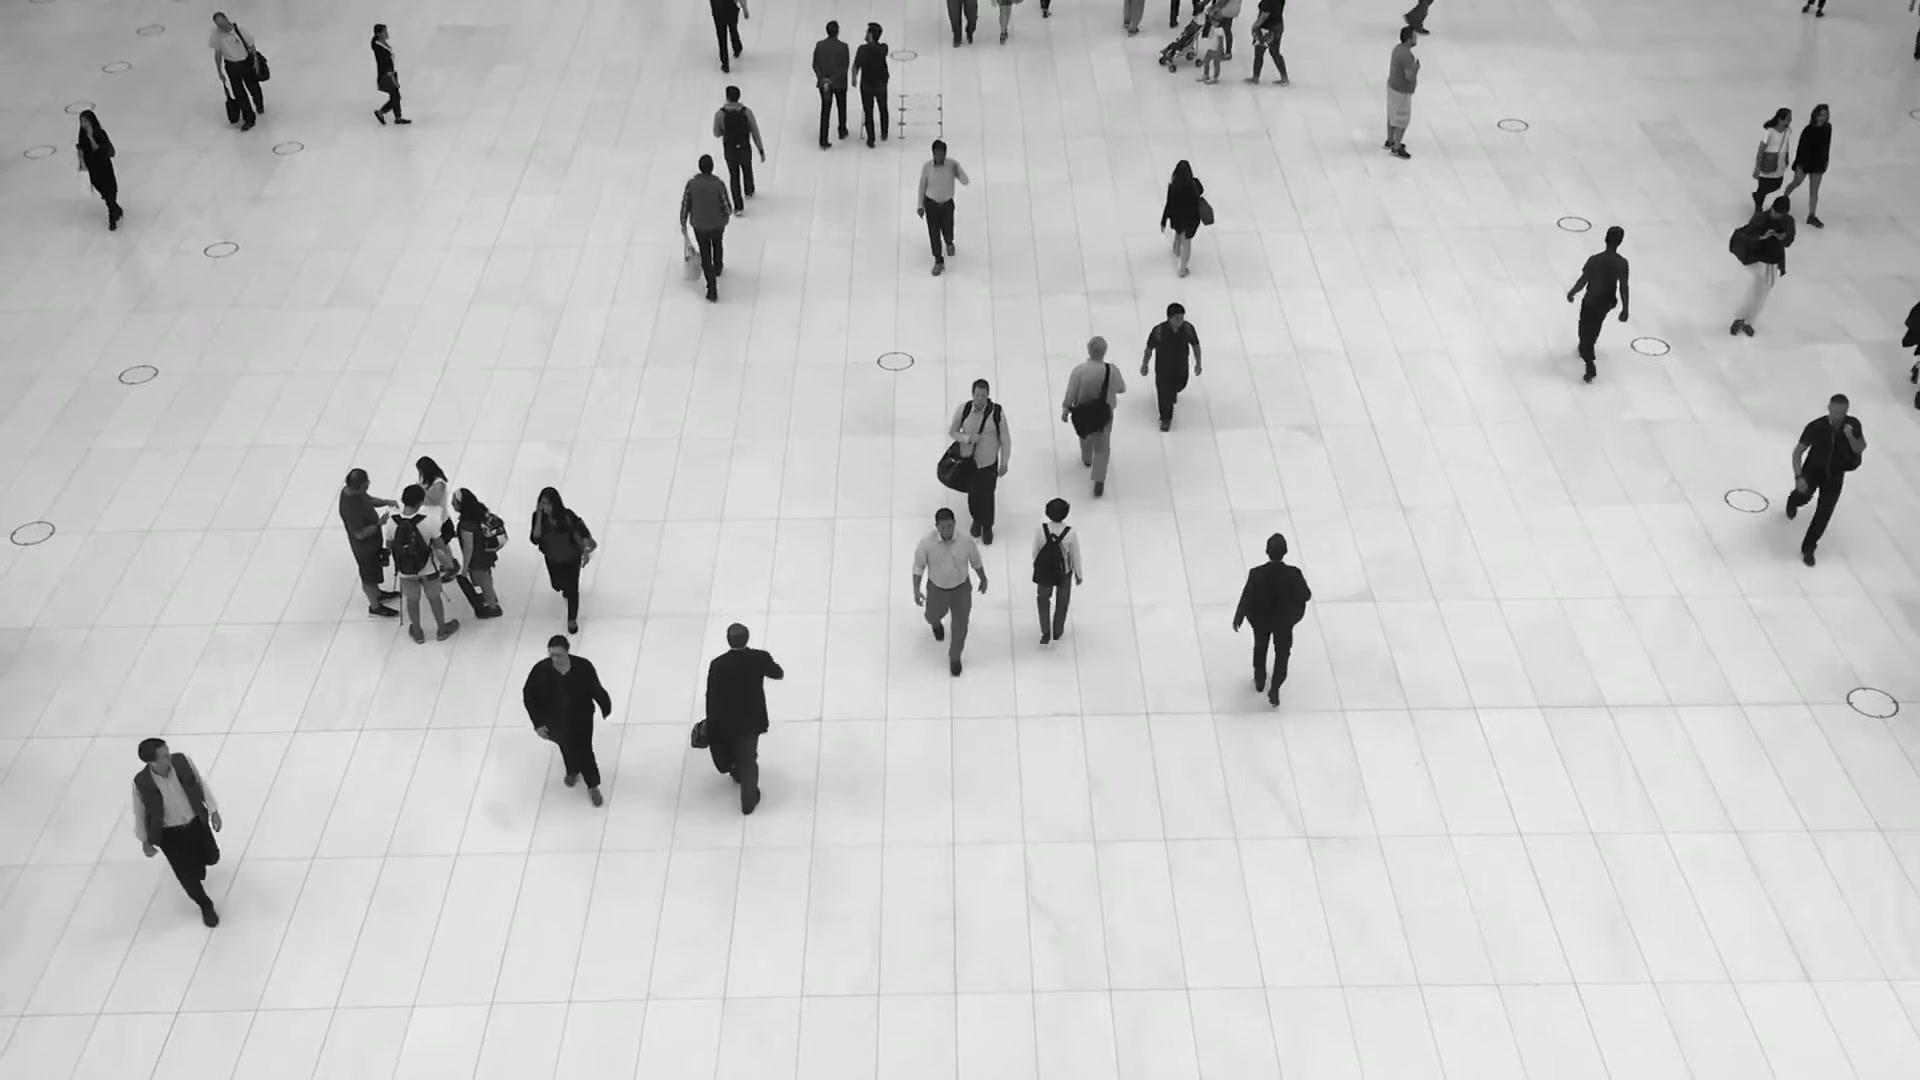person: (130, 734, 223, 923), (526, 634, 611, 813), (706, 625, 781, 826), (1784, 390, 1868, 558), (1234, 533, 1312, 703), (912, 504, 987, 670), (383, 484, 458, 645), (950, 380, 1011, 554), (1061, 335, 1126, 492), (529, 484, 598, 631), (1728, 195, 1795, 344), (338, 468, 400, 619), (1568, 226, 1629, 378), (1030, 498, 1082, 649), (682, 154, 733, 301), (1144, 298, 1201, 426), (714, 87, 766, 219), (915, 137, 966, 272), (450, 488, 503, 619), (208, 10, 265, 130), (1161, 159, 1213, 278), (1782, 102, 1832, 226), (76, 109, 123, 232), (415, 456, 459, 583), (1383, 25, 1421, 160), (811, 20, 851, 149), (853, 22, 891, 150), (1749, 106, 1792, 210), (1250, 0, 1297, 90), (368, 23, 408, 126), (1194, 16, 1227, 85)
